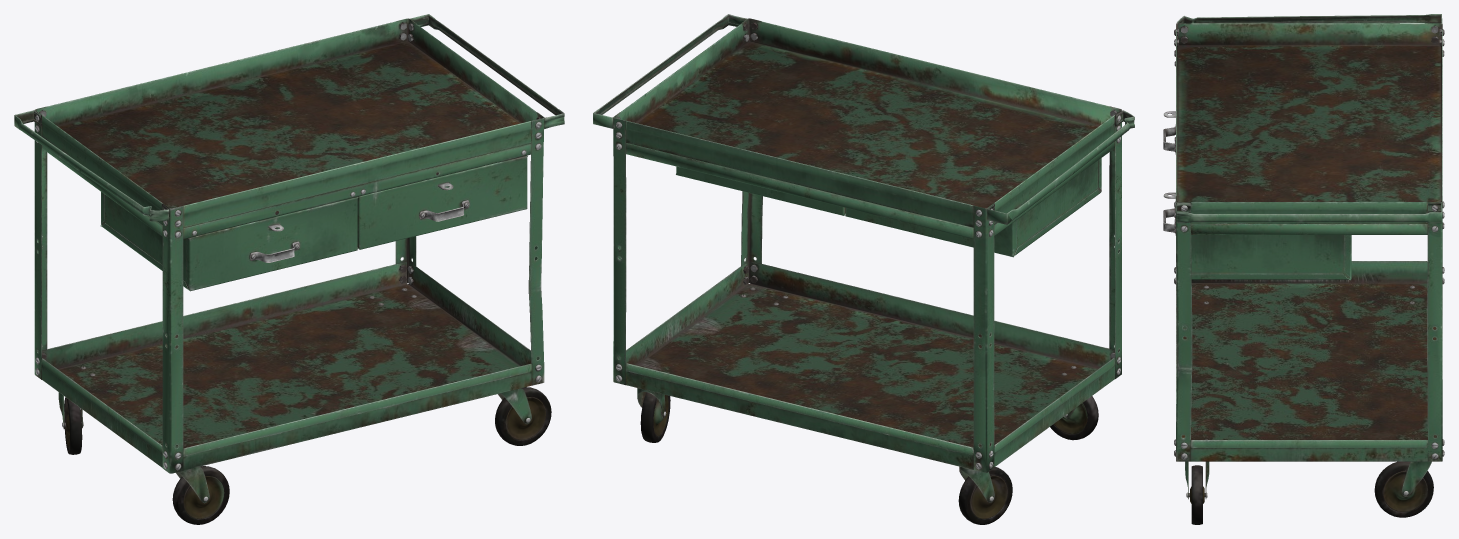
Rendered from tool_cart.glb.
3 views of the same model, side by side, from view 1: azimuth 30°, elevation 25°; view 2: azimuth 150°, elevation 25°; view 3: azimuth 270°, elevation 25° (orthographic). The views are drawn at different scales.
Parts seen in each view (by area): view 1: tool_cart; view 2: tool_cart; view 3: tool_cart.
Boxes of the visible parts, x1,y1,x2,y2 form: tool_cart: (14,14,564,524); tool_cart: (593,14,1134,524); tool_cart: (1163,14,1444,524).
Size of what is drawn, in the model's own units: 1.27 by 0.965 by 0.754.
1 material, 1 textured.
